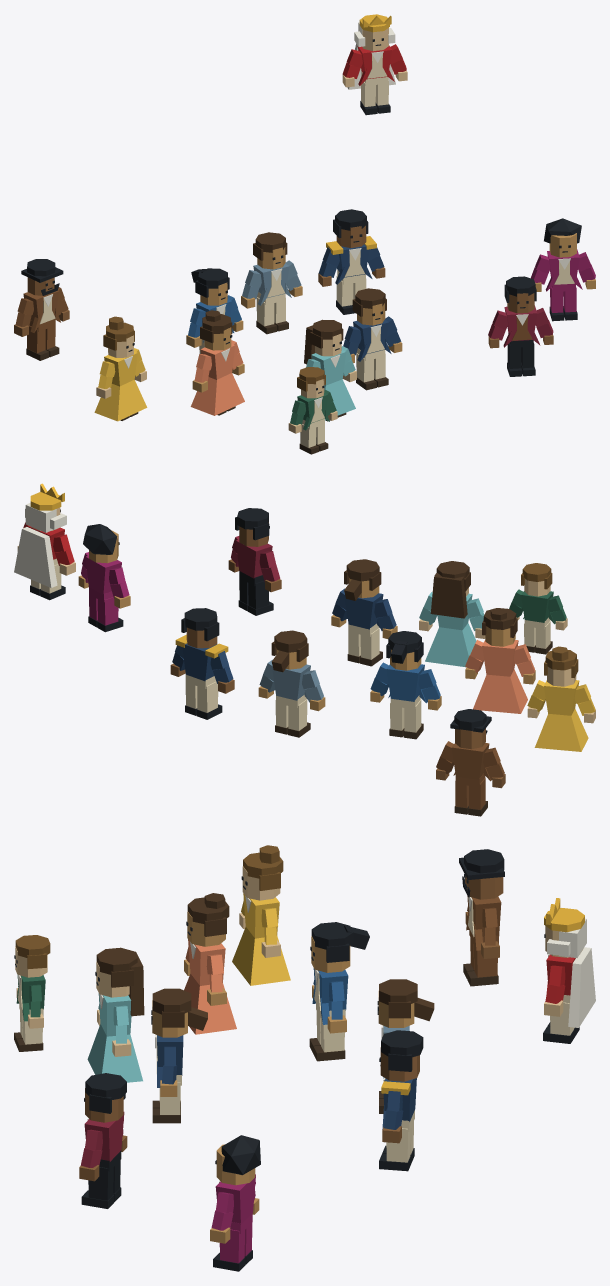
File: cast.glb
3 renders of one model, top to bottom at view 1: azimuth 30°, elevation 25°; view 2: azimuth 150°, elevation 25°; view 3: azimuth 270°, elevation 25°, orthographic. The views are drawn at different scales.
Parts seen in each view (by area): view 1: SM_Angelica_Skirt, SM_Peggy_Skirt, SM_Angelica_Torso, SM_Peggy_Torso, SM_Eliza_Torso, SM_Eliza_Skirt, SM_Jefferson_HairAfro, SM_Jefferson_Head; view 2: SM_GeorgeIII_Cape, SM_Angelica_Skirt, SM_Peggy_Skirt, SM_Eliza_Skirt, SM_Eliza_LongHair, SM_Lafayette_Torso, SM_Mulligan_Torso, SM_Angelica_Torso, SM_Peggy_Torso, SM_Hamilton_Torso, SM_Laurens_Torso, SM_Washington_Torso (+19 smaller); view 3: SM_Peggy_Skirt, SM_Eliza_Skirt, SM_GeorgeIII_Cape, SM_Angelica_Skirt, SM_Jefferson_HairAfro, SM_Jefferson_Torso, SM_Burr_Torso, SM_Washington_HairCap, SM_Lafayette_HairCap, SM_Burr_HairCap, SM_Angelica_Torso, SM_Hamilton_HairCap (+24 smaller).
Boxes of the visible parts, x1,y1,x2,y2 form: SM_Angelica_Skirt: (190, 373, 244, 415); SM_Peggy_Skirt: (94, 379, 147, 421); SM_Angelica_Torso: (200, 344, 235, 379); SM_Peggy_Torso: (104, 351, 137, 386); SM_Eliza_Torso: (311, 350, 345, 385); SM_Eliza_Skirt: (324, 379, 355, 420); SM_Jefferson_HairAfro: (544, 218, 581, 243); SM_Jefferson_Head: (549, 233, 576, 257); SM_GeorgeIII_Cape: (14, 527, 57, 587); SM_Angelica_Skirt: (473, 669, 527, 713); SM_Peggy_Skirt: (534, 708, 588, 751); SM_Eliza_Skirt: (425, 623, 476, 667); SM_Eliza_LongHair: (430, 573, 467, 618); SM_Lafayette_Torso: (386, 664, 424, 701); SM_Mulligan_Torso: (451, 743, 489, 779); SM_Angelica_Torso: (482, 640, 518, 676); SM_Peggy_Torso: (544, 680, 579, 715); SM_Hamilton_Torso: (344, 593, 383, 629); SM_Laurens_Torso: (272, 664, 310, 700); SM_Washington_Torso: (182, 643, 217, 681); SM_Peggy_Skirt: (232, 927, 290, 985); SM_Eliza_Skirt: (87, 1024, 142, 1082); SM_GeorgeIII_Cape: (568, 947, 595, 1027); SM_Angelica_Skirt: (184, 974, 236, 1034); SM_Jefferson_HairAfro: (221, 1135, 260, 1175); SM_Jefferson_Torso: (215, 1174, 255, 1224); SM_Burr_Torso: (84, 1112, 124, 1161); SM_Washington_HairCap: (381, 1030, 423, 1057); SM_Lafayette_HairCap: (311, 922, 353, 949); SM_Burr_HairCap: (85, 1073, 126, 1099); SM_Angelica_Torso: (188, 939, 225, 985); SM_Hamilton_HairCap: (152, 988, 191, 1014).
Bounding box in the file's own units: 10.46 × 4.73 × 7.97.
